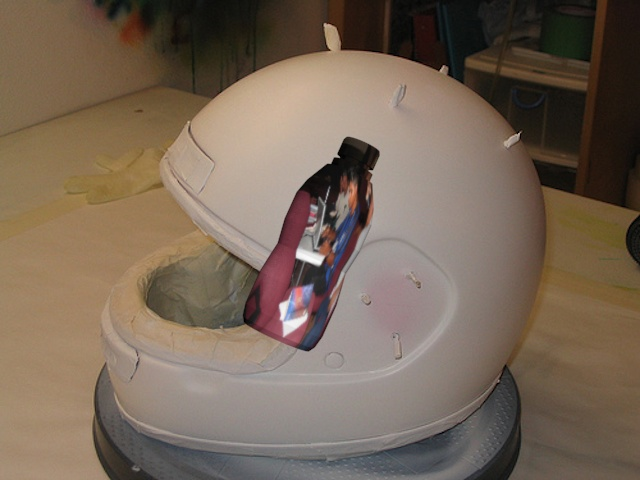bottle: (240, 129, 385, 353)
